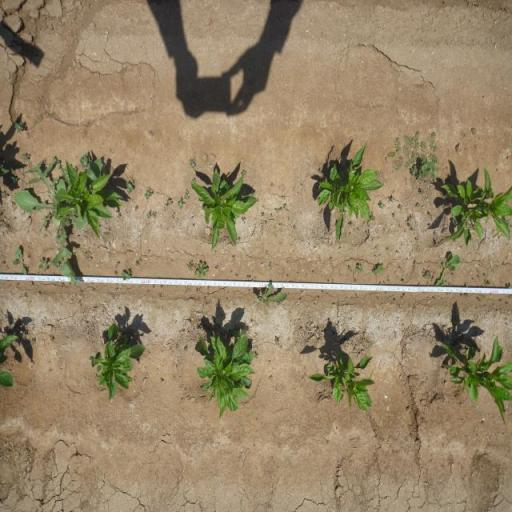plant: (440, 334, 512, 422), (317, 142, 378, 243), (437, 166, 512, 248), (190, 168, 258, 252), (56, 160, 123, 239), (193, 332, 254, 418), (88, 322, 146, 404), (306, 350, 376, 412), (0, 334, 19, 387)
weed: (18, 166, 63, 280), (388, 130, 438, 174), (434, 253, 460, 287), (254, 286, 287, 308), (12, 246, 28, 276), (186, 259, 209, 278), (418, 158, 436, 181), (53, 156, 66, 176), (38, 258, 49, 272), (406, 214, 415, 231), (80, 153, 90, 168), (144, 186, 154, 200), (120, 270, 131, 280), (372, 264, 383, 274), (6, 176, 18, 185), (13, 122, 23, 132), (83, 250, 92, 261), (126, 182, 134, 194), (275, 335, 282, 347), (189, 158, 197, 168), (422, 270, 431, 278), (184, 189, 190, 200), (22, 153, 30, 161), (0, 190, 8, 198), (260, 221, 268, 229), (369, 212, 376, 221), (178, 200, 184, 210), (184, 284, 190, 294), (30, 336, 36, 346), (166, 198, 173, 206), (135, 258, 142, 266), (275, 206, 283, 213), (114, 261, 121, 268), (357, 264, 363, 272), (483, 280, 491, 286), (253, 352, 259, 359), (146, 212, 152, 219), (182, 345, 188, 352), (380, 201, 385, 209), (214, 264, 220, 270), (195, 287, 201, 293), (246, 274, 252, 280), (230, 254, 236, 260), (22, 334, 28, 340), (390, 195, 394, 202), (398, 204, 402, 211), (114, 271, 119, 276), (246, 287, 250, 293), (348, 266, 352, 272), (421, 188, 424, 195), (282, 195, 286, 200), (270, 182, 274, 187), (413, 261, 417, 266), (401, 294, 406, 298), (392, 211, 395, 217), (261, 212, 265, 216), (206, 286, 210, 290), (270, 262, 272, 270), (465, 283, 468, 288), (284, 203, 286, 209), (351, 222, 354, 226), (236, 273, 238, 277), (266, 250, 268, 254), (416, 204, 420, 206)
